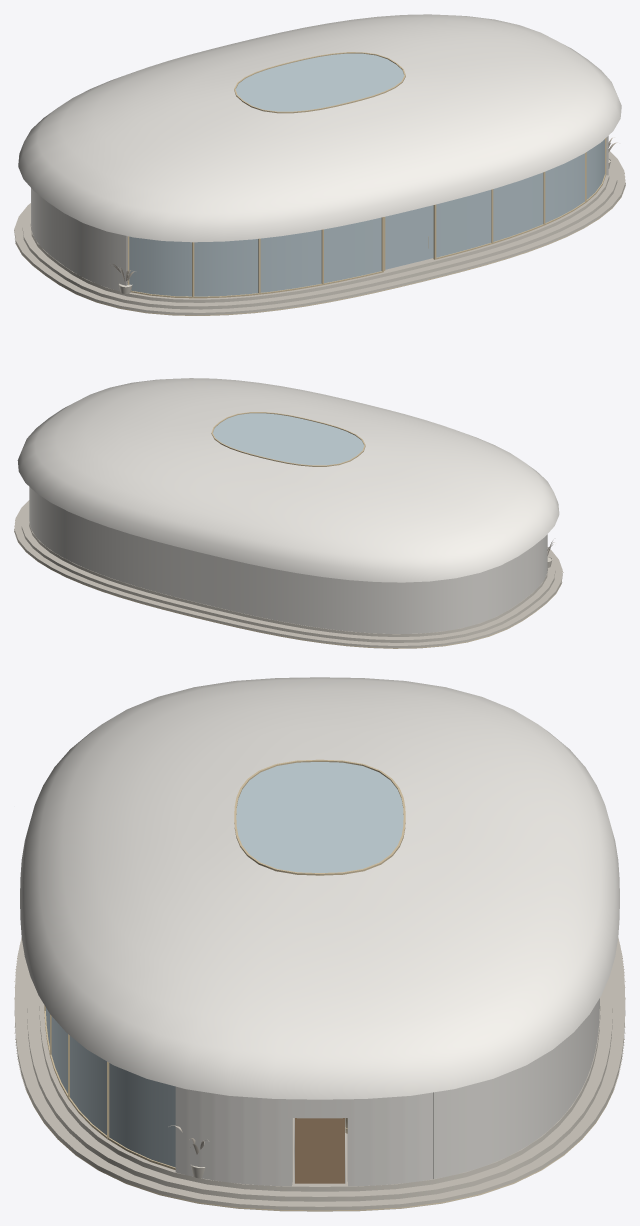
The model's file is Nocturne.dae.
3 views of the same model, one above another, from view 1: azimuth 30°, elevation 25°; view 2: azimuth 150°, elevation 25°; view 3: azimuth 270°, elevation 25° (orthographic). The views are drawn at different scales.
Visible parts, largest first — view 1: Nocturne_Roof, Nocturne_Glass_S, Nocturne_Floor, Nocturne_Wall_W, Nocturne_Door_S; view 2: Nocturne_Roof, Nocturne_Wall_N, Nocturne_Floor, Nocturne_Wall_W; view 3: Nocturne_Roof, Nocturne_Floor, Nocturne_Wall_E, Nocturne_Wall_N, Nocturne_Glass_S, Nocturne_Door_E.
Part boxes in pixels (<box>): Nocturne_Roof: <box>18,14,621,242</box>; Nocturne_Glass_S: <box>127,138,606,298</box>; Nocturne_Floor: <box>14,151,625,315</box>; Nocturne_Wall_W: <box>32,189,127,291</box>; Nocturne_Door_S: <box>384,205,433,270</box>; Nocturne_Roof: <box>17,378,559,582</box>; Nocturne_Wall_N: <box>29,487,479,633</box>; Nocturne_Floor: <box>14,500,563,648</box>; Nocturne_Wall_W: <box>479,534,547,622</box>; Nocturne_Roof: <box>20,677,619,1099</box>; Nocturne_Floor: <box>14,938,625,1211</box>; Nocturne_Wall_E: <box>175,1086,432,1186</box>; Nocturne_Wall_N: <box>433,998,599,1179</box>; Nocturne_Glass_S: <box>44,1005,175,1169</box>; Nocturne_Door_E: <box>294,1118,345,1183</box>.
Size of the model in its own units: 27.44 by 17.44 by 6.03.
